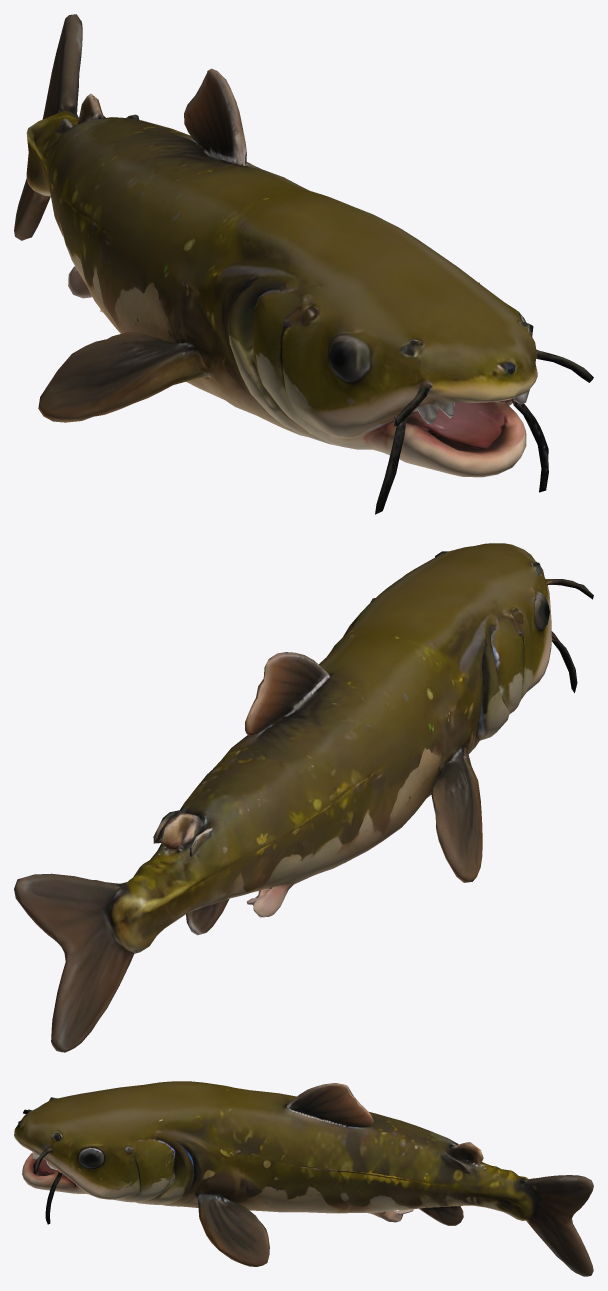
The model's file is catfish.glb.
3 renders of one model, top to bottom at view 1: azimuth 30°, elevation 25°; view 2: azimuth 150°, elevation 25°; view 3: azimuth 270°, elevation 25°, orthographic. The views are drawn at different scales.
Parts seen in each view (by area): view 1: tripo_node_601b369f-6397-4c2d-992d-9434d06537fd; view 2: tripo_node_601b369f-6397-4c2d-992d-9434d06537fd; view 3: tripo_node_601b369f-6397-4c2d-992d-9434d06537fd.
Part boxes in pixels (bbox=[...]): tripo_node_601b369f-6397-4c2d-992d-9434d06537fd: bbox=[14, 14, 593, 514]; tripo_node_601b369f-6397-4c2d-992d-9434d06537fd: bbox=[14, 543, 593, 1052]; tripo_node_601b369f-6397-4c2d-992d-9434d06537fd: bbox=[14, 1081, 593, 1276].
Size of the model in its own units: 0.3415 by 0.3502 by 1.
1 material, 1 textured.
